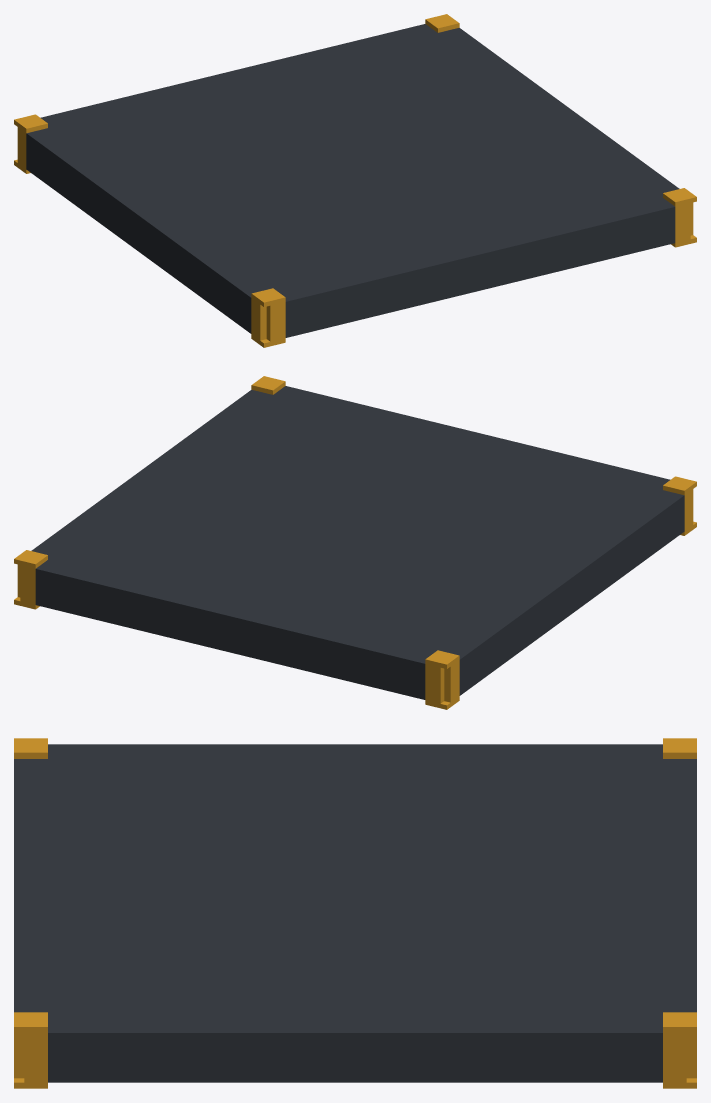
The model's file is Catwalk_2x2_Junction.fbx.
3 views of the same model, one above another, from view 1: azimuth 30°, elevation 25°; view 2: azimuth 150°, elevation 25°; view 3: azimuth 270°, elevation 25° (orthographic). The views are drawn at different scales.
Visible parts, largest first — view 1: Catwalk_2x2_Junction; view 2: Catwalk_2x2_Junction; view 3: Catwalk_2x2_Junction.
Boxes of the visible parts, box(x1,y1,x2,y2) form: Catwalk_2x2_Junction: box(14, 14, 696, 347); Catwalk_2x2_Junction: box(14, 376, 696, 709); Catwalk_2x2_Junction: box(14, 738, 696, 1088).
Bounding box in the file's own units: 200 × 20 × 200.
